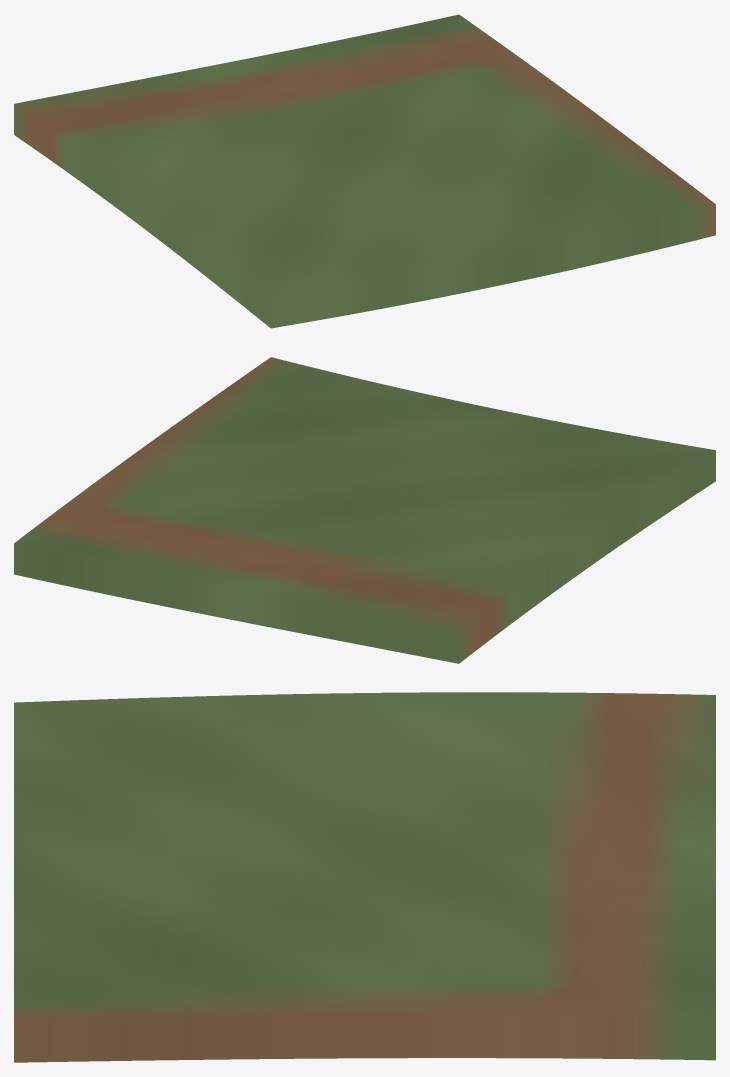
3 renders of one model, top to bottom at view 1: azimuth 30°, elevation 25°; view 2: azimuth 150°, elevation 25°; view 3: azimuth 270°, elevation 25°, orthographic. The views are drawn at different scales.
Parts seen in each view (by area): view 1: terrain; view 2: terrain; view 3: terrain.
Boxes of the visible parts, x1=… form: terrain: x1=14, y1=14, x2=715, y2=328; terrain: x1=14, y1=357, x2=715, y2=663; terrain: x1=14, y1=692, x2=715, y2=1062.
Size of the model in its own units: 30 by 3.49 by 30.
